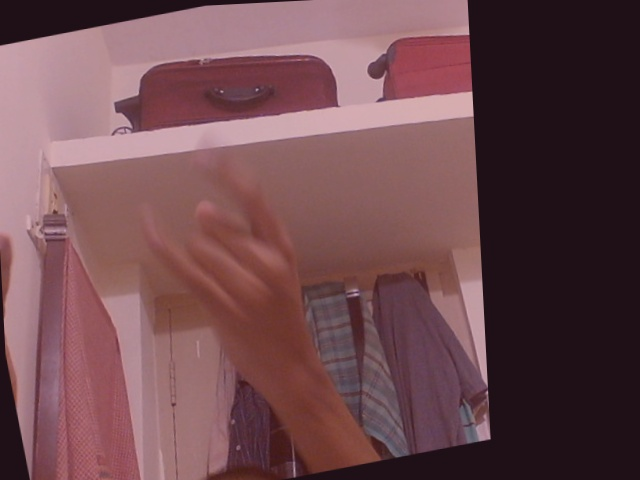hand: (132, 140, 324, 396)
